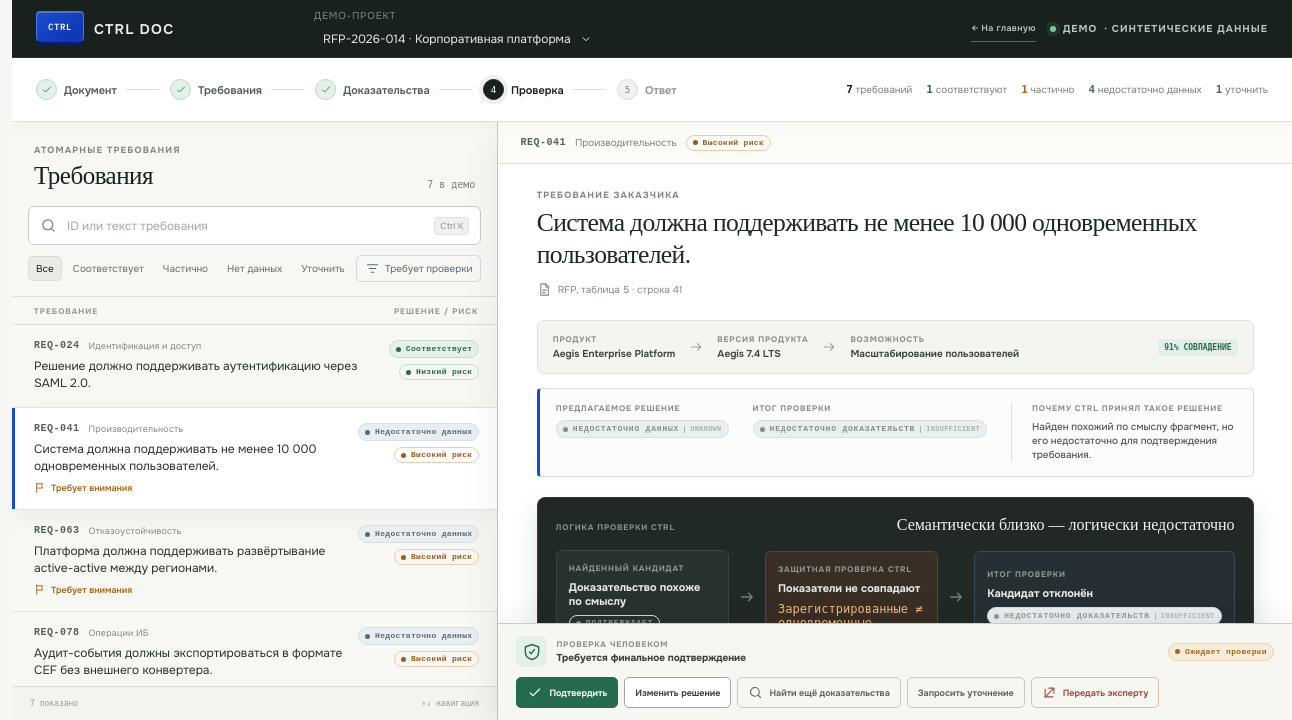
Scenario: CTRL Intelligence Workbench › selects a requirement and opens its grounded detail
Click the button named "развёртывание active-active между регионами": coordinates (255, 561) x1=12 y1=510 x2=497 y2=612
(page scrolled)
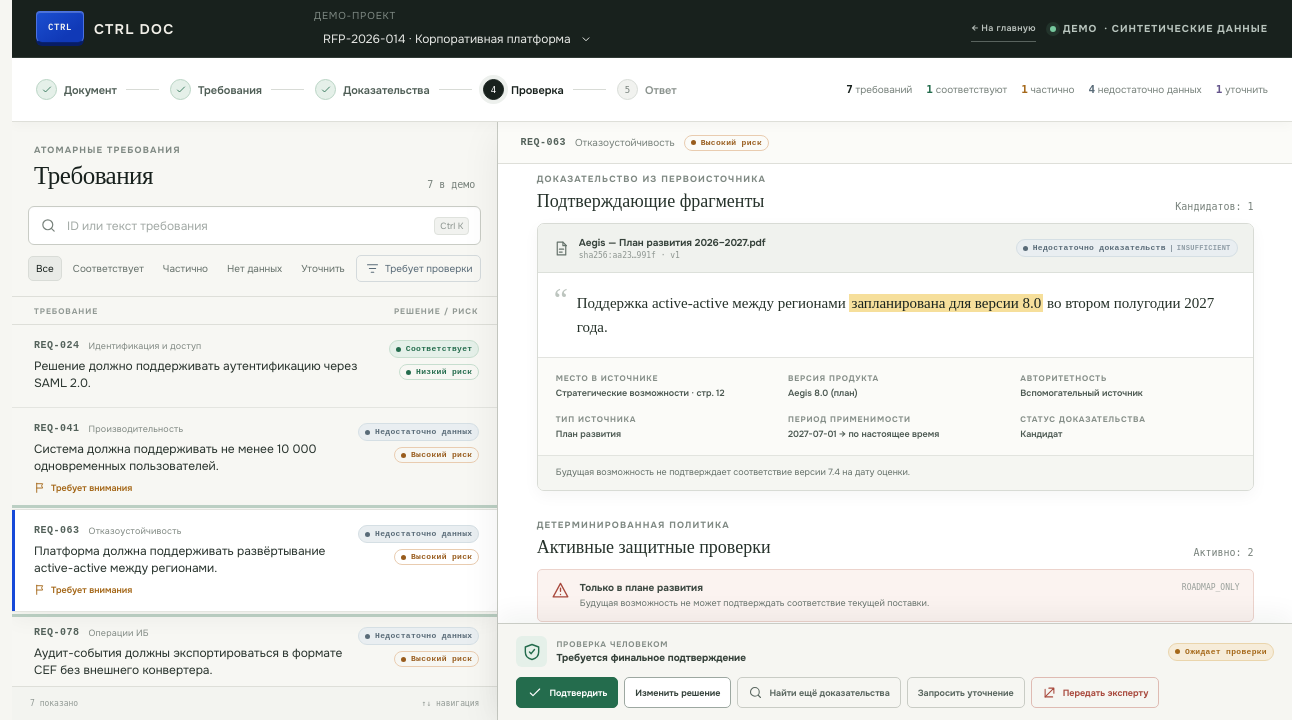
Expected: the text "Только в плане развития" is shown, x1=580 y1=581 x2=703 y2=594
Expected: the text "Aegis 8.0 (план)" is shown, x1=788 y1=387 x2=858 y2=399
